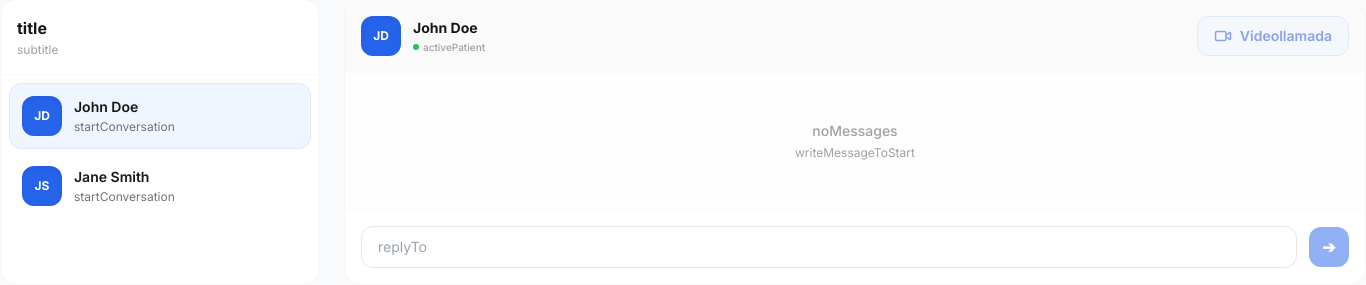
Test case: ChatPage › renders chat interface and loads conversations via MSW
Note: Click on the conversation to select it and load messages
Step 1. Click the heading "John Doe" below "subtitle" → (106, 107), box top-left (74, 97), bottom-right (138, 117)
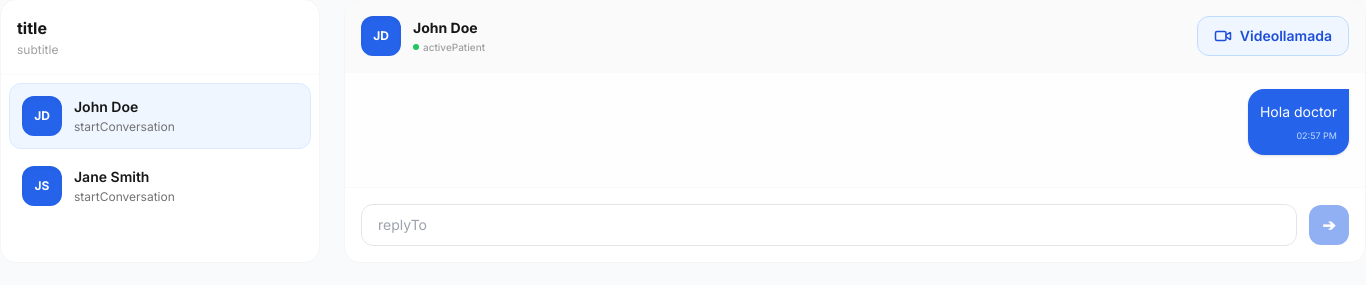
Check: the text "Hola doctor" is shown, box top-left (1260, 101), bottom-right (1337, 124)
